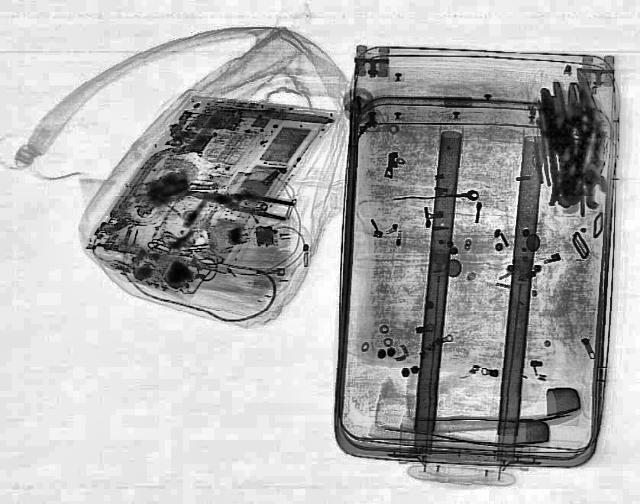Pliers: (186, 180, 296, 222)
